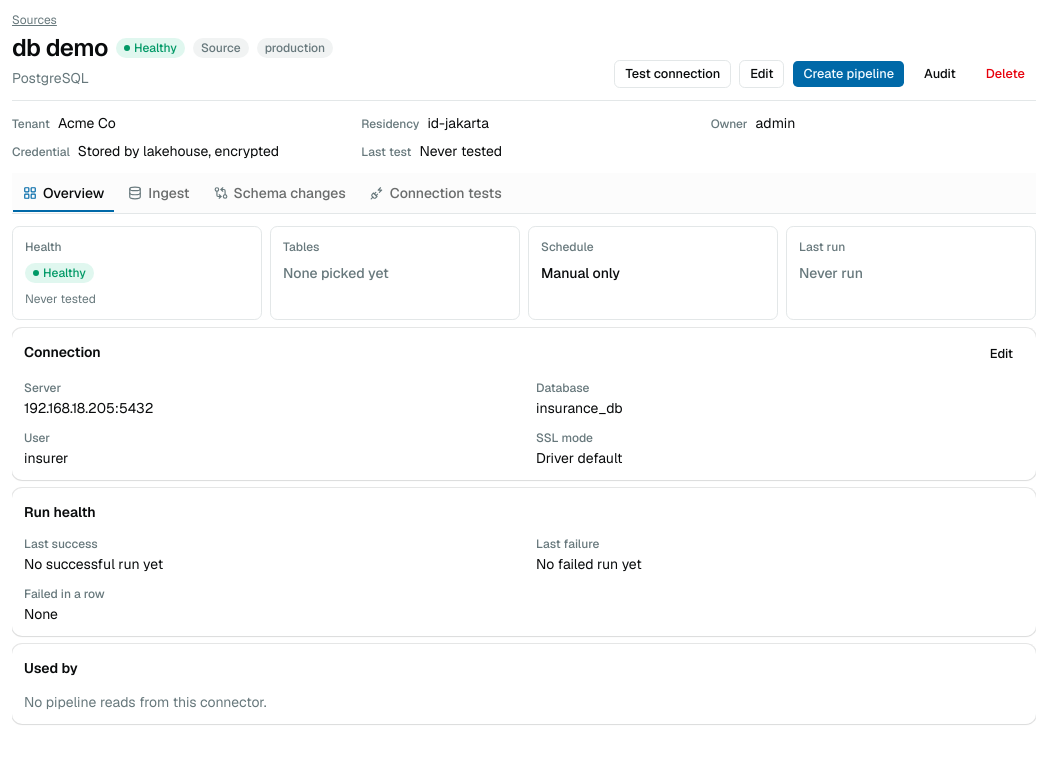
it: ConnectorDetailPage › the result of Test connection › announces a pass only when the probe ran and passed, and shows a notice in the success tone
Click the button "Test connection".
click(673, 74)  # box [614,60,731,88]
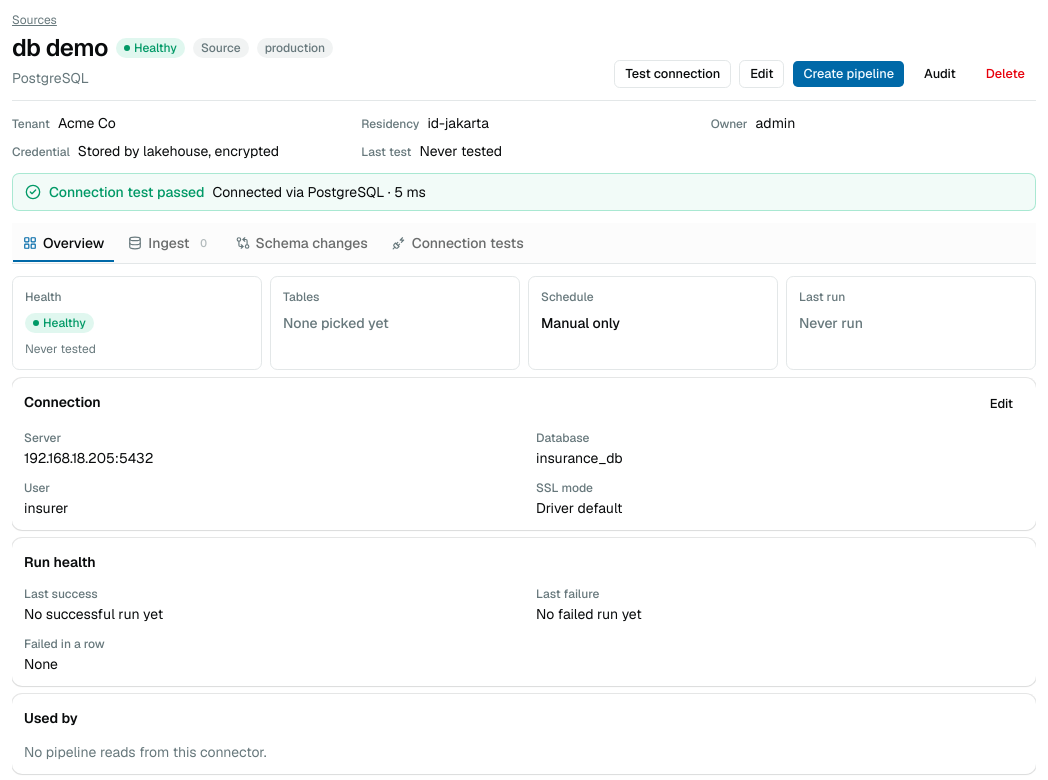
Expected: the text "Connection test passed" shows "Connected via PostgreSQL · 5 ms", [12,173,1036,211]
